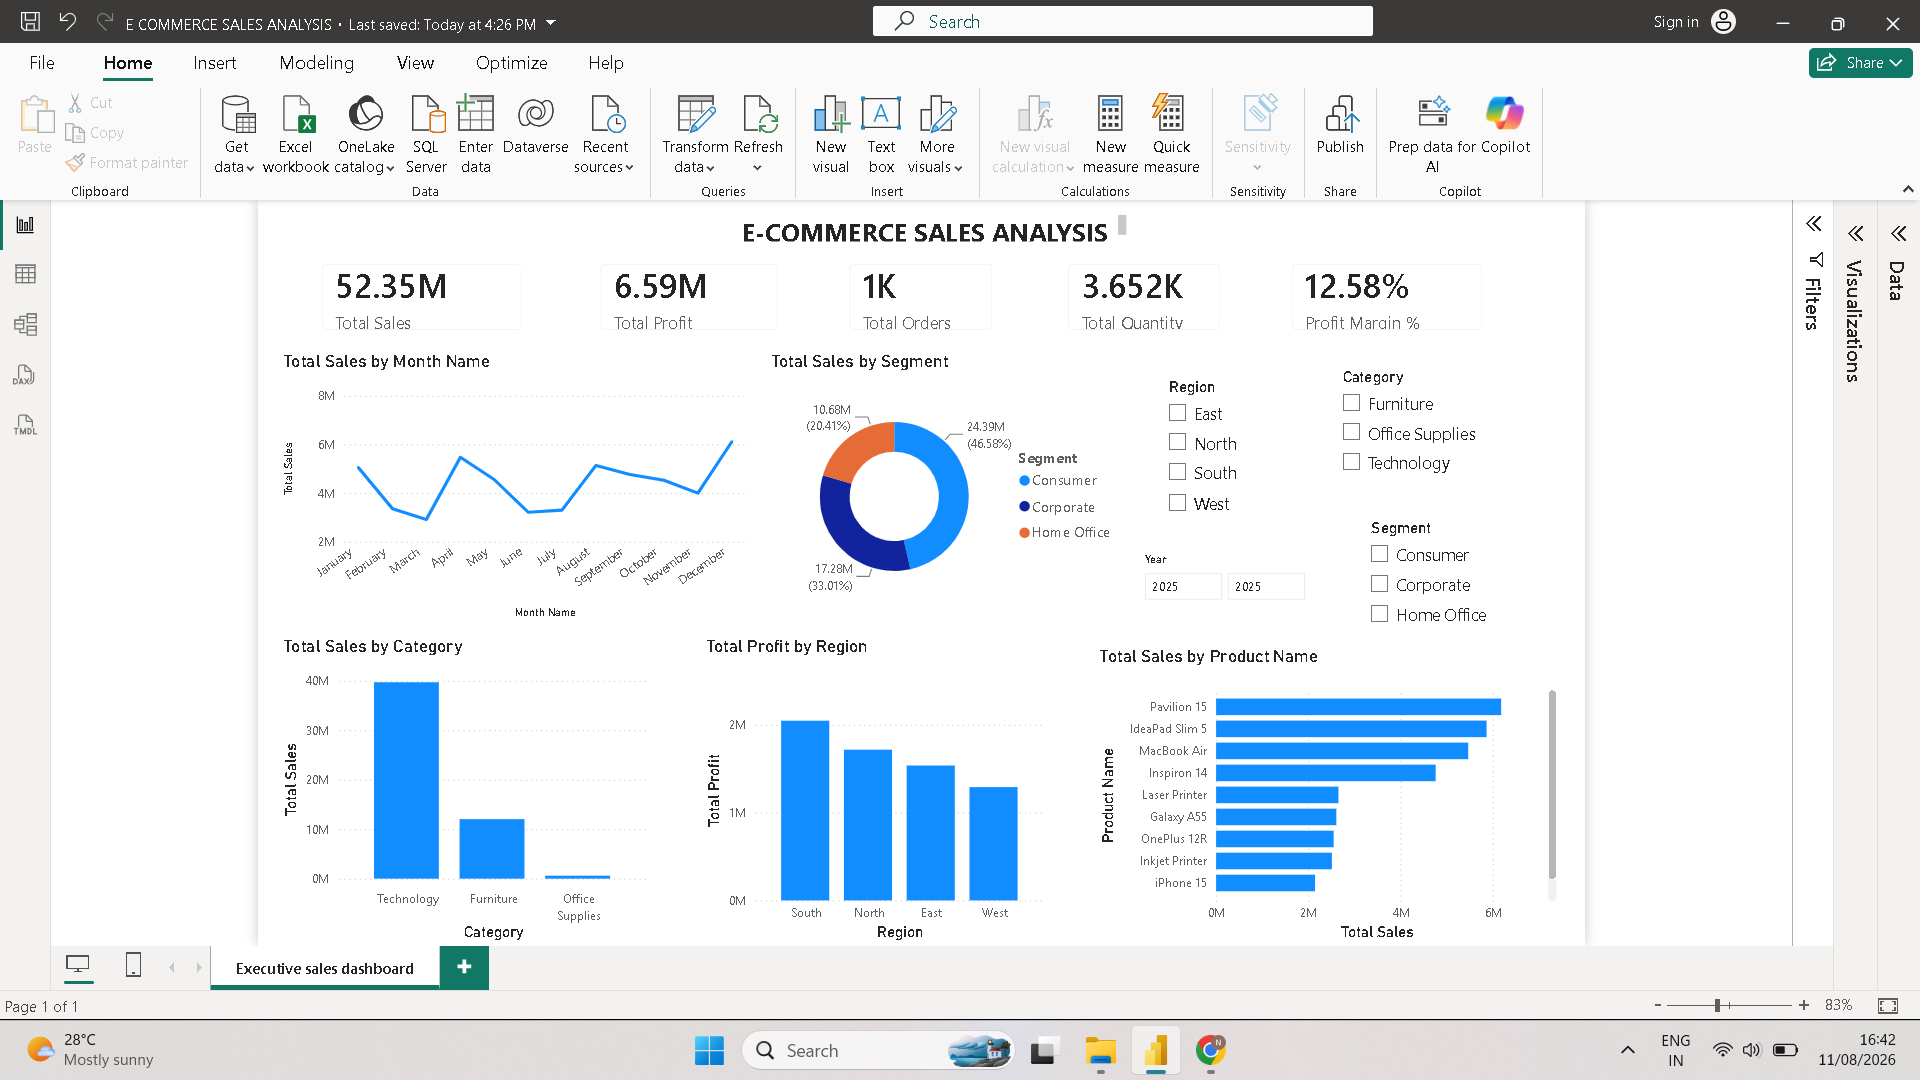

The page's visual inventory and layout, read from the dashboard file:
{"tool":"powerbi","page":{"name":"Page 1","canvas":[1280,720],"ordinal":0},"visuals":[{"type":"cardVisual","fields":{"Data":["Sales Data.Total Sales"]},"box":[45,45,226.2,98.8],"z":0},{"type":"cardVisual","fields":{"Data":["Sales Data.Total Profit"]},"box":[313.8,45,205,98.8],"z":1},{"type":"cardVisual","fields":{"Data":["Sales Data.Total Orders"]},"box":[553.8,45,172.5,98.8],"z":2},{"type":"cardVisual","fields":{"Data":["Sales Data.Total Quantity"]},"box":[765,45,181.2,98.8],"z":3},{"type":"cardVisual","fields":{"Data":["Sales Data.Profit Margin %"]},"box":[981.2,45,218.8,98.8],"z":4},{"type":"lineChart","fields":{"Y":["Sales Data.Total Sales"],"Category":["Date Table.Month Name"]},"box":[18.8,145,456.2,263.8],"z":5},{"type":"clusteredColumnChart","box":[1432.2,90,168,300],"z":6},{"type":"clusteredColumnChart","fields":{"Category":["Sales Data.Category"],"Y":["Sales Data.Total Sales"]},"box":[18.8,420,362.2,300],"z":7},{"type":"clusteredColumnChart","fields":{"Category":["Sales Data.Region"],"Y":["Sales Data.Total Profit"]},"box":[427.5,420,337.5,300],"z":8},{"type":"clusteredBarChart","fields":{"Category":["Sales Data.Product Name"],"Y":["Sales Data.Total Sales"]},"box":[807.5,430,451.2,290],"z":9},{"type":"donutChart","fields":{"Category":["Sales Data.Segment"],"Y":["Sales Data.Total Sales"]},"box":[490,145,345,252.5],"z":10},{"type":"slicer","fields":{"Values":["Sales Data.Region"]},"box":[866.2,166.2,156.2,147.5],"z":11},{"type":"slicer","fields":{"Values":["Sales Data.Category"]},"box":[1033.8,156.2,246.7,135.6],"z":12},{"type":"slicer","fields":{"Values":["Sales Data.Segment"]},"box":[1061.2,302.5,176.7,117.8],"z":13},{"type":"slicer","fields":{"Values":["Date Table.Year"]},"box":[843.8,335,178.8,73.8],"z":14},{"type":"textbox","box":[462.5,10,381.2,35],"z":15}]}

Visuals, with their boxes on the page's 1280x720 design canvas (x1, y1, x2, y2). These are canvas units, not pixel positions in the 1920x1080 screenshot, which may show the page scaled, cropped or inside an application window:
cardVisual - Sales Data.Total Sales: rect(45, 45, 271, 144)
cardVisual - Sales Data.Total Profit: rect(314, 45, 519, 144)
cardVisual - Sales Data.Total Orders: rect(554, 45, 726, 144)
cardVisual - Sales Data.Total Quantity: rect(765, 45, 946, 144)
cardVisual - Sales Data.Profit Margin %: rect(981, 45, 1200, 144)
lineChart - Sales Data.Total Sales x Date Table.Month Name: rect(19, 145, 475, 409)
clusteredColumnChart: rect(1432, 90, 1600, 390)
clusteredColumnChart - Sales Data.Category x Sales Data.Total Sales: rect(19, 420, 381, 720)
clusteredColumnChart - Sales Data.Region x Sales Data.Total Profit: rect(428, 420, 765, 720)
clusteredBarChart - Sales Data.Product Name x Sales Data.Total Sales: rect(808, 430, 1259, 720)
donutChart - Sales Data.Segment x Sales Data.Total Sales: rect(490, 145, 835, 398)
slicer - Sales Data.Region: rect(866, 166, 1022, 314)
slicer - Sales Data.Category: rect(1034, 156, 1280, 292)
slicer - Sales Data.Segment: rect(1061, 302, 1238, 420)
slicer - Date Table.Year: rect(844, 335, 1023, 409)
textbox: rect(462, 10, 844, 45)
